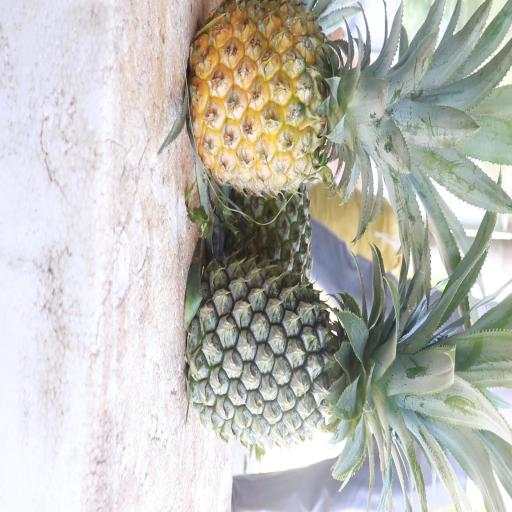Pineapple - v8 v1: (183, 1, 436, 204)
